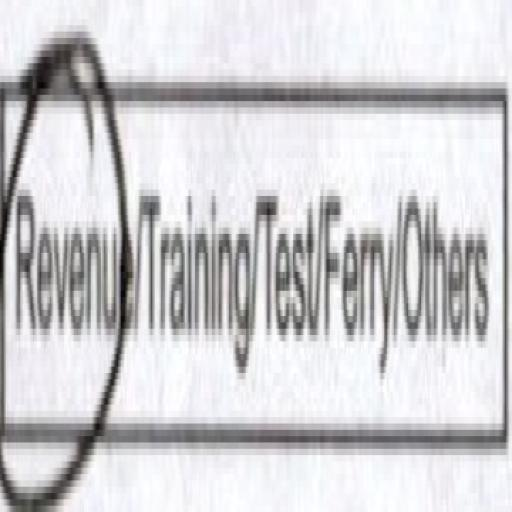check: (0, 7, 136, 512)
